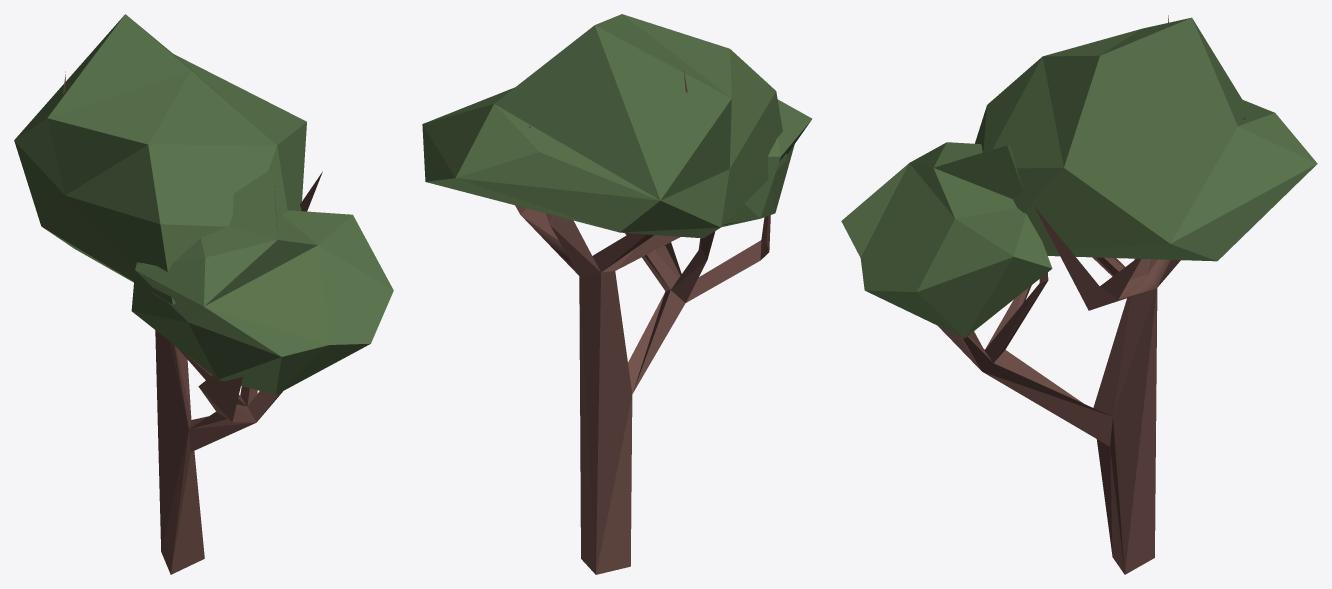
3 renders of one model, left to right at view 1: azimuth 30°, elevation 25°; view 2: azimuth 150°, elevation 25°; view 3: azimuth 270°, elevation 25°, orthographic. The views are drawn at different scales.
Parts seen in each view (by area): view 1: cube-036; view 2: cube-036; view 3: cube-036.
Boxes of the visible parts, x1,y1,x2,y2 form: cube-036: [14, 14, 393, 574]; cube-036: [422, 14, 812, 574]; cube-036: [841, 15, 1317, 574].
Bounding box in the file's own units: 1.69 × 3.16 × 2.54.
